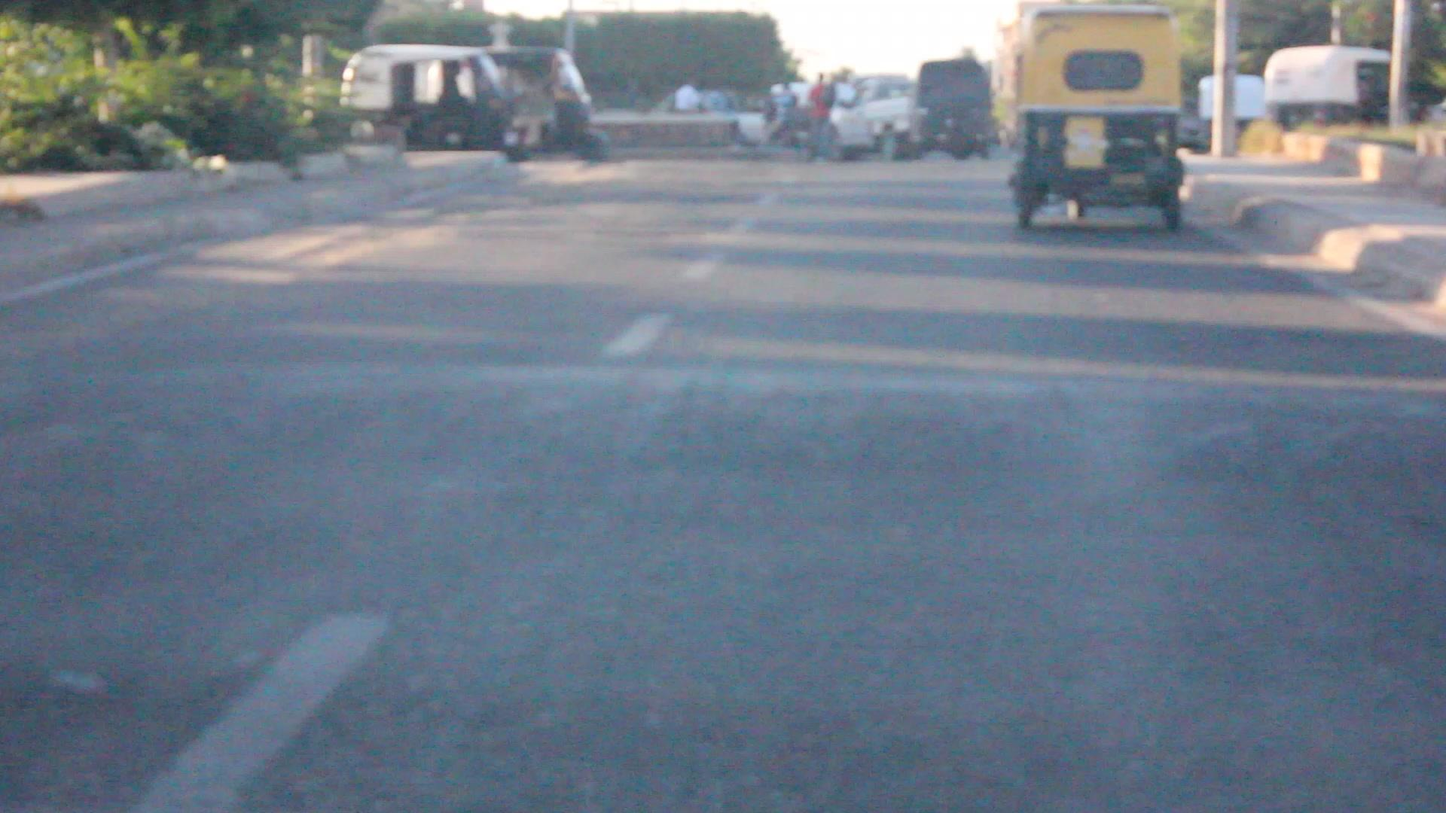Bump: (0, 366, 1445, 544)
